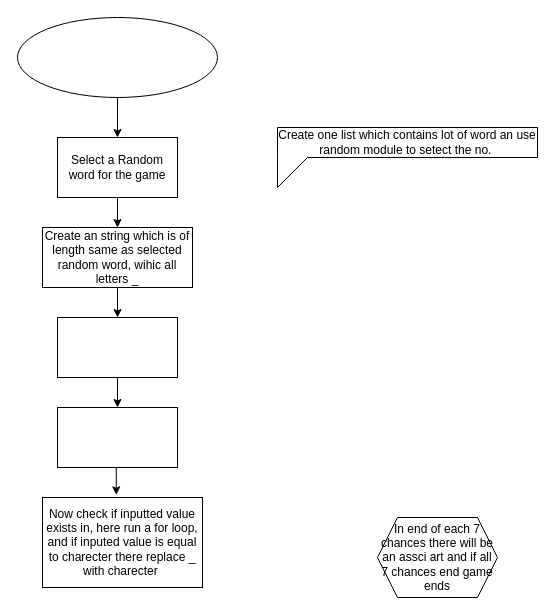
Image size: 555x615. Some labels were removed from this diagram. Here are the shapes that lost their labels. From the top down, the centre of each, then its label:
At point 117,57: "Start".
At point 117,347: "Now run a while loop for 7 time or new word != actual word".
At point 117,437: "Now in each iteration take one-character input.".
